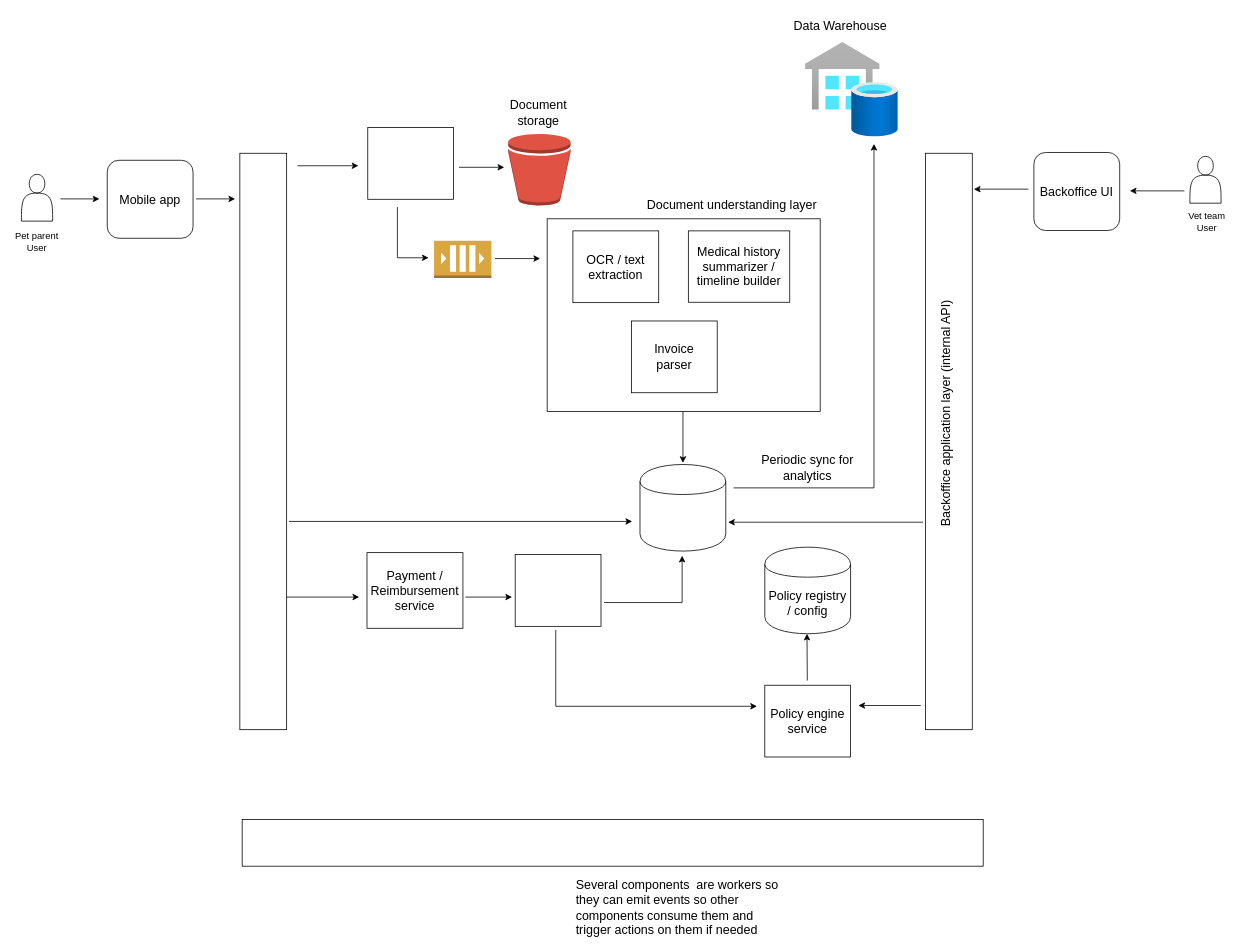
This 1243x951 diagram has some shape labels left out. The shapes that lost their labels are listed below. From the top down, each one's centre as x and y in pixels, then its label:
At pixel 410 163: "Claim document intake service".
At pixel 263 441: "Claims data application layer (API)".
At pixel 682 507: "Structured claim data store".
At pixel 557 590: "Decision engine & orchestrator service".
At pixel 612 842: "Event bus".
